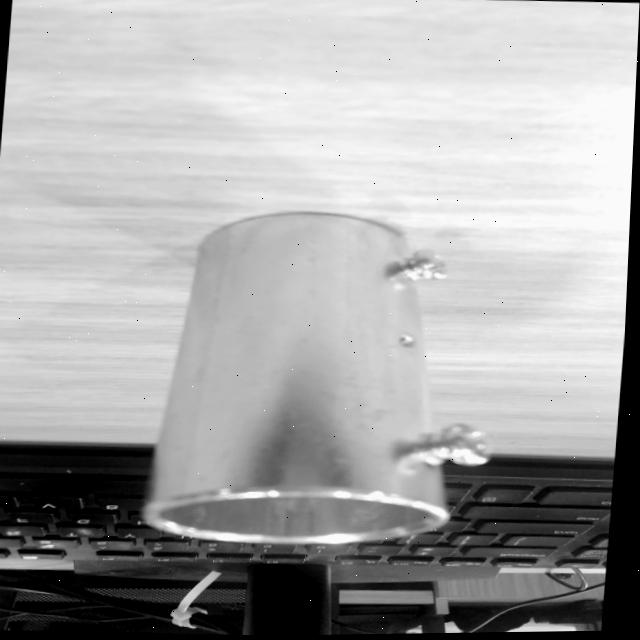Co_Lon: (141, 194, 516, 572)
